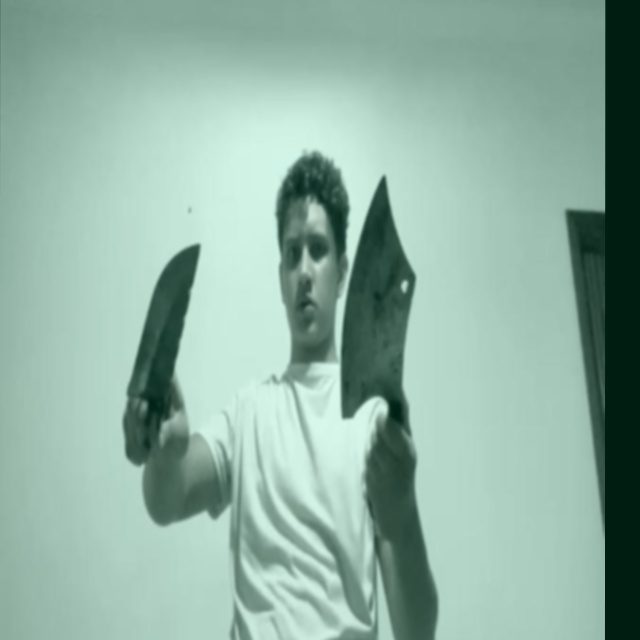Sharp-Object: (339, 170, 418, 417), (127, 240, 201, 396)
